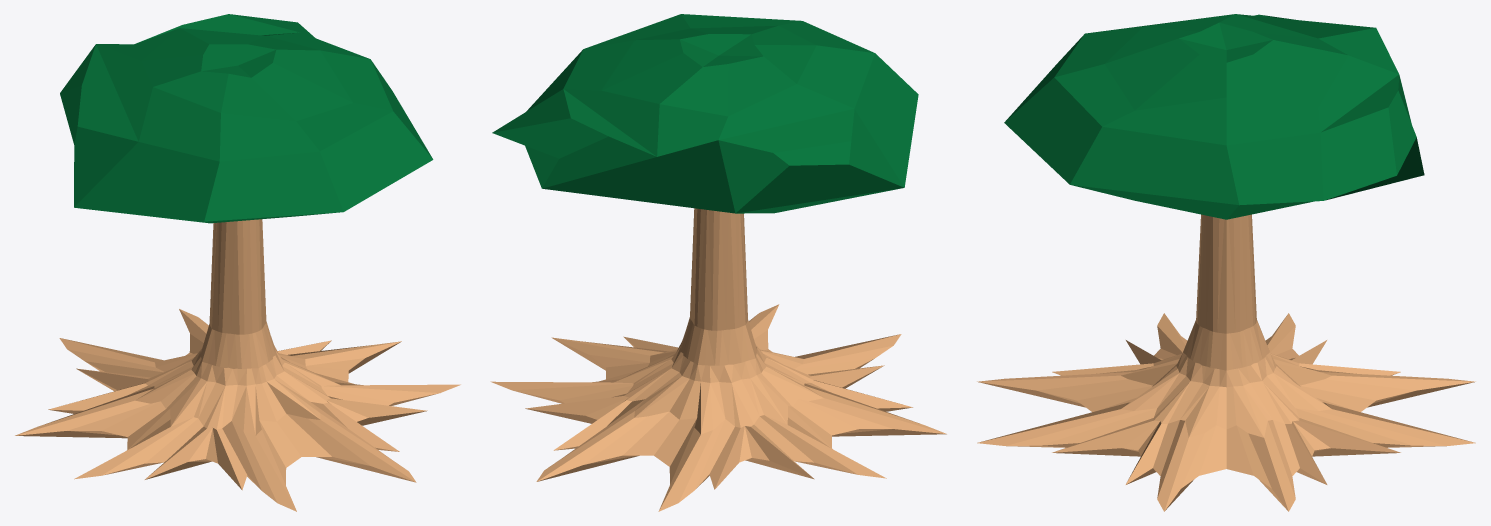
File: WorldTree.fbx
3 views of the same model, side by side, from view 1: azimuth 30°, elevation 25°; view 2: azimuth 150°, elevation 25°; view 3: azimuth 270°, elevation 25° (orthographic). The views are drawn at different scales.
Visible parts, largest first — view 1: Cube.001, Cube; view 2: Cube.001, Cube; view 3: Cube.001, Cube.
Boxes of the visible parts, bbox=[...] form: Cube.001: bbox=[60, 14, 433, 223]; Cube: bbox=[15, 219, 460, 511]; Cube.001: bbox=[492, 14, 918, 213]; Cube: bbox=[490, 208, 946, 511]; Cube.001: bbox=[1004, 14, 1424, 219]; Cube: bbox=[977, 214, 1475, 511].
Size of the model in its own units: 1758 by 1620 by 1867.
